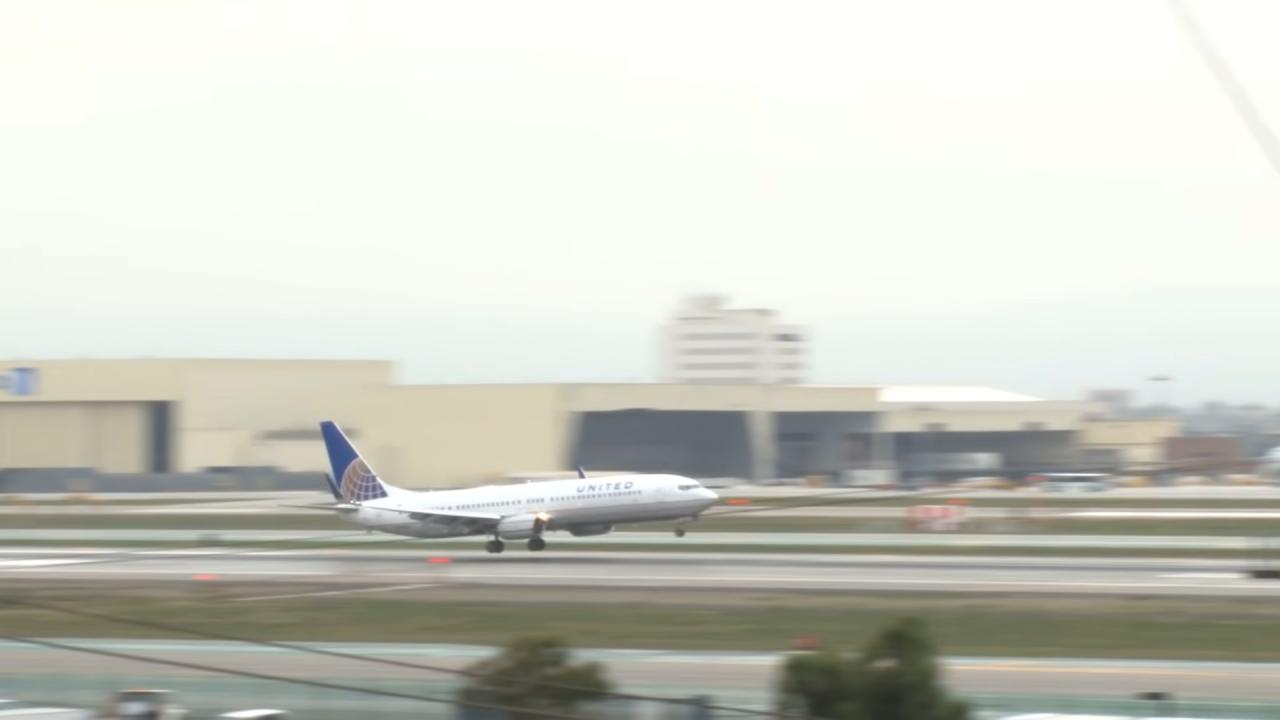Airplane: (267, 409, 727, 568)
